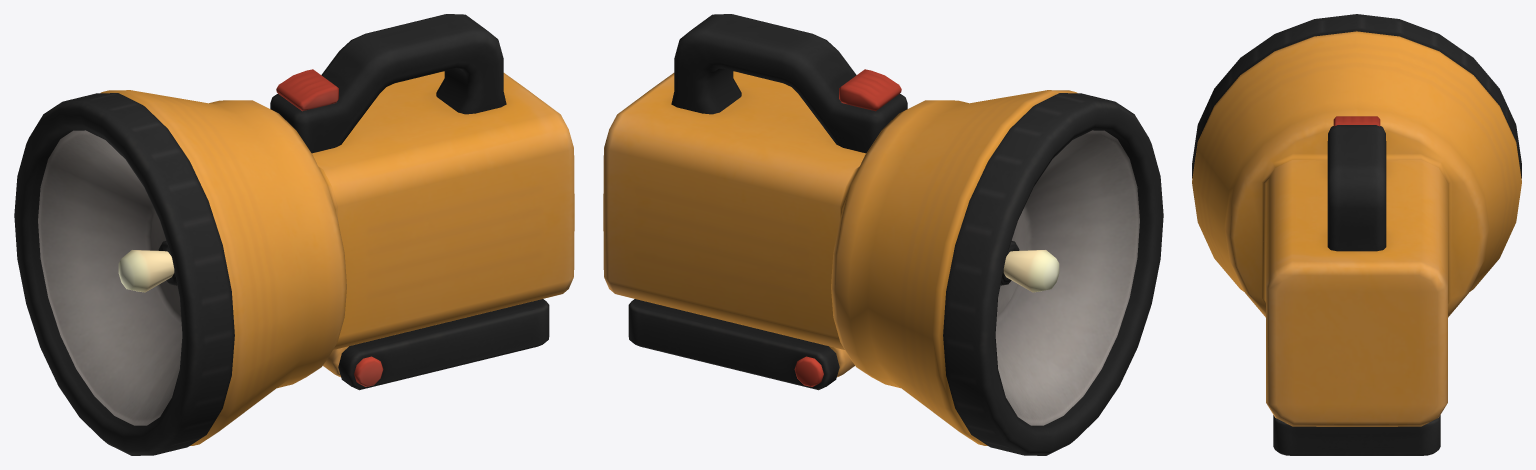
The model's file is StackUp_Flashlight.fbx.
The picture shows the model from 3 angles, left to right: view 1: azimuth 30°, elevation 25°; view 2: azimuth 150°, elevation 25°; view 3: azimuth 270°, elevation 25°; orthographic projection. The views are drawn at different scales.
Visible parts, largest first — view 1: StackUp_Flashlight; view 2: StackUp_Flashlight; view 3: StackUp_Flashlight.
Part boxes in pixels (left/top/right/bottom): StackUp_Flashlight: left=14, top=14, right=574, bottom=455; StackUp_Flashlight: left=603, top=14, right=1163, bottom=455; StackUp_Flashlight: left=1192, top=14, right=1521, bottom=455.
Bounding box in the file's own units: 18.11 × 13.66 × 13.45.
